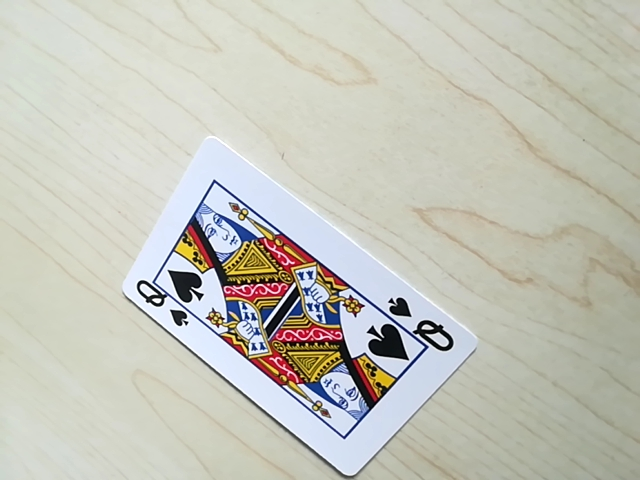ht q: (387, 303, 455, 345), (133, 284, 198, 323)
